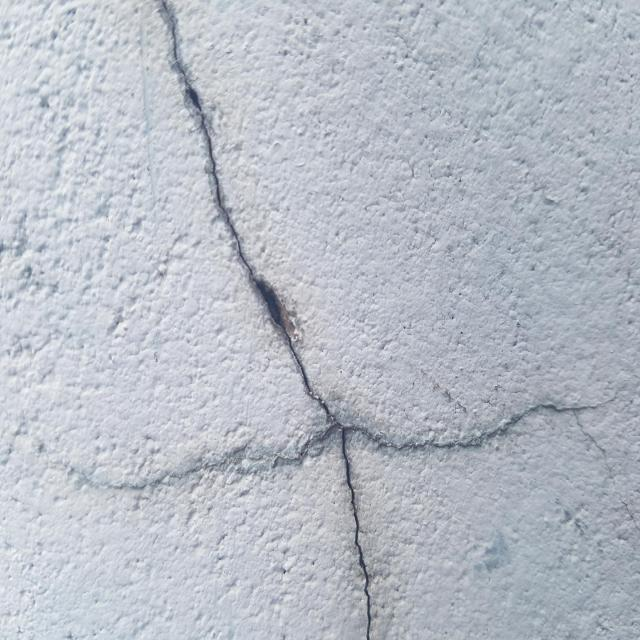SurfaceCrack: (102, 1, 419, 640)
